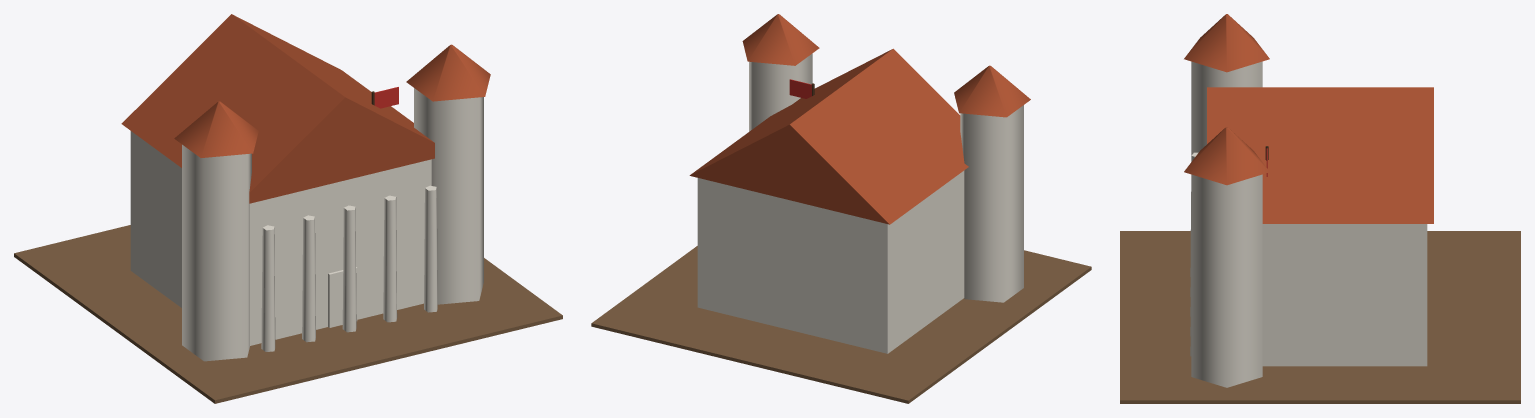
The model's file is bld_special_command_center_a02_lod2.glb.
The picture shows the model from 3 angles, left to right: view 1: azimuth 30°, elevation 25°; view 2: azimuth 150°, elevation 25°; view 3: azimuth 270°, elevation 25°; orthographic projection. The views are drawn at different scales.
Parts seen in each view (by area): view 1: body; view 2: body; view 3: body.
Boxes of the visible parts, bbox=[...] form: body: bbox=[14, 14, 562, 403]; body: bbox=[591, 14, 1091, 403]; body: bbox=[1120, 14, 1520, 403].
Size of the model in its own units: 15 by 10.25 by 15.
